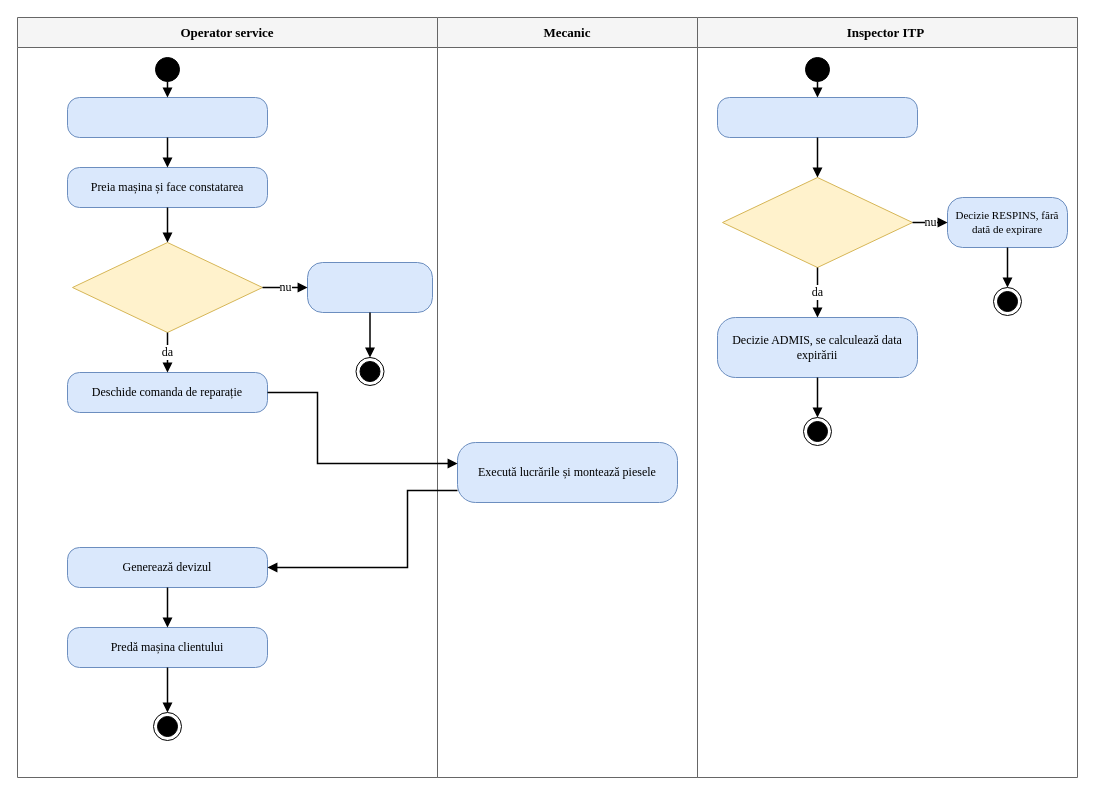
The diagram is 1095 pixels wide and 795 high, and some of its shapes have lost their labels. Each missing label, with the centre of its shape:
Este nevoie de muncă ulterioară?: the point at 167,287
Introduce valorile măsurate: the point at 817,117
Valori în limite?: the point at 817,222
Încheie programarea, fără comandă: the point at 369,287
Înregistrează programarea: the point at 167,117
